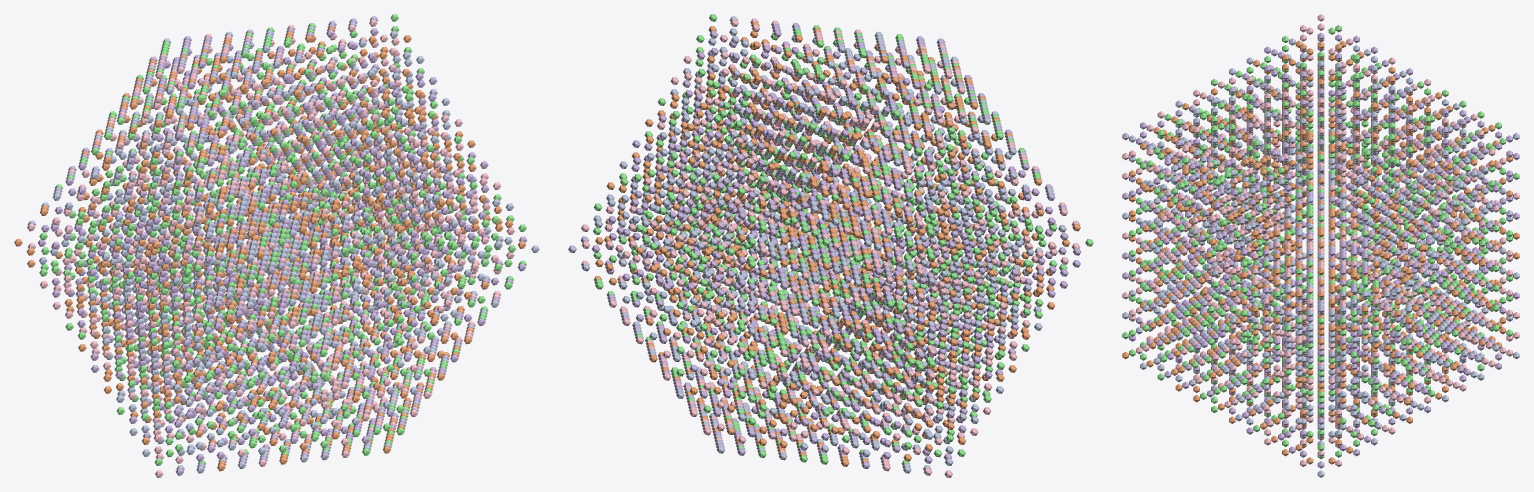
File: multielement_nanoparticle.glb
The picture shows the model from 3 angles, left to right: view 1: azimuth 30°, elevation 25°; view 2: azimuth 150°, elevation 25°; view 3: azimuth 270°, elevation 25°; orthographic projection. The views are drawn at different scales.
Bounding box in the file's own units: 47.37 × 47.37 × 47.37.
